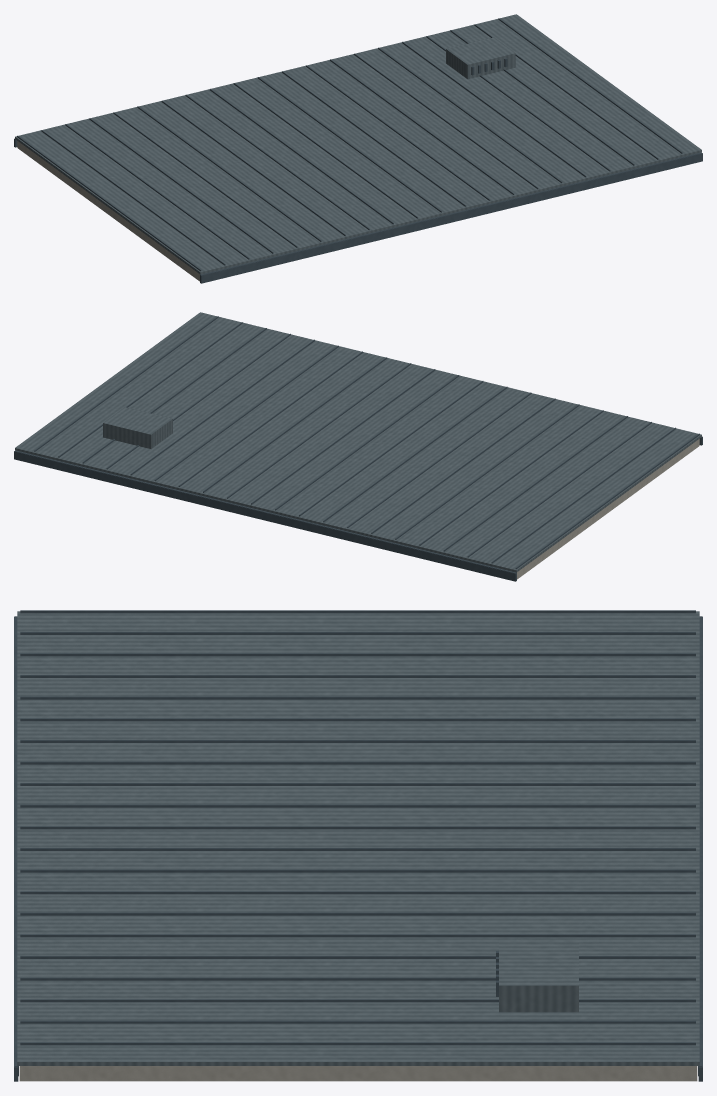
The model's file is PZ_GCR_07_Hall_Roof_16x10m.glb.
The picture shows the model from 3 angles, top to bottom: view 1: azimuth 30°, elevation 25°; view 2: azimuth 150°, elevation 25°; view 3: azimuth 270°, elevation 25°; orthographic projection. The views are drawn at different scales.
Parts seen in each view (by area): view 1: Hall_Roof_16x10m__Roof_Weatherproof_Steel, Hall_Roof_16x10m__Roof_StandingSeam_Ribs, Hall_Roof_16x10m__Roof_Fascia_Front, Hall_Roof_16x10m__Roof_Equipment_Vent, Hall_Roof_16x10m__Roof_Primary_Deck, Hall_Roof_16x10m__Roof_Rain_Gutter_Front; view 2: Hall_Roof_16x10m__Roof_Weatherproof_Steel, Hall_Roof_16x10m__Roof_StandingSeam_Ribs, Hall_Roof_16x10m__Roof_Fascia_Rear, Hall_Roof_16x10m__Roof_Equipment_Vent, Hall_Roof_16x10m__Roof_Primary_Deck, Hall_Roof_16x10m__Roof_Rain_Gutter_Rear; view 3: Hall_Roof_16x10m__Roof_Weatherproof_Steel, Hall_Roof_16x10m__Roof_StandingSeam_Ribs, Hall_Roof_16x10m__Roof_Primary_Deck, Hall_Roof_16x10m__Roof_Equipment_Vent, Hall_Roof_16x10m__Roof_Rain_Gutter_Front, Hall_Roof_16x10m__Roof_Rain_Gutter_Rear.
Part boxes in pixels (left/top/right/bottom): Hall_Roof_16x10m__Roof_Weatherproof_Steel: left=15, top=14, right=701, bottom=274; Hall_Roof_16x10m__Roof_StandingSeam_Ribs: left=17, top=18, right=682, bottom=271; Hall_Roof_16x10m__Roof_Fascia_Front: left=200, top=153, right=702, bottom=283; Hall_Roof_16x10m__Roof_Equipment_Vent: left=446, top=37, right=515, bottom=79; Hall_Roof_16x10m__Roof_Primary_Deck: left=17, top=141, right=199, bottom=281; Hall_Roof_16x10m__Roof_Rain_Gutter_Front: left=200, top=152, right=702, bottom=275; Hall_Roof_16x10m__Roof_Weatherproof_Steel: left=15, top=312, right=701, bottom=572; Hall_Roof_16x10m__Roof_StandingSeam_Ribs: left=34, top=316, right=699, bottom=569; Hall_Roof_16x10m__Roof_Fascia_Rear: left=14, top=451, right=516, bottom=581; Hall_Roof_16x10m__Roof_Equipment_Vent: left=103, top=407, right=172, bottom=448; Hall_Roof_16x10m__Roof_Primary_Deck: left=517, top=439, right=699, bottom=579; Hall_Roof_16x10m__Roof_Rain_Gutter_Rear: left=14, top=450, right=516, bottom=573; Hall_Roof_16x10m__Roof_Weatherproof_Steel: left=17, top=611, right=699, bottom=1065; Hall_Roof_16x10m__Roof_StandingSeam_Ribs: left=20, top=610, right=695, bottom=1045; Hall_Roof_16x10m__Roof_Primary_Deck: left=19, top=1066, right=697, bottom=1081; Hall_Roof_16x10m__Roof_Equipment_Vent: left=499, top=942, right=578, bottom=1012; Hall_Roof_16x10m__Roof_Rain_Gutter_Front: left=14, top=616, right=18, bottom=1076; Hall_Roof_16x10m__Roof_Rain_Gutter_Rear: left=698, top=616, right=702, bottom=1076.
Size of the model in its own units: 16.68 by 0.82 by 10.78.
3 materials, 3 textured.
